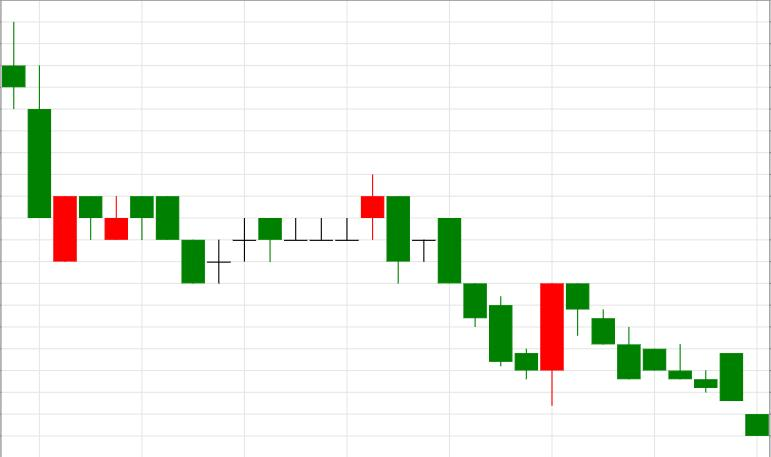bullish_engulfing_rise: (387, 196, 564, 407)
